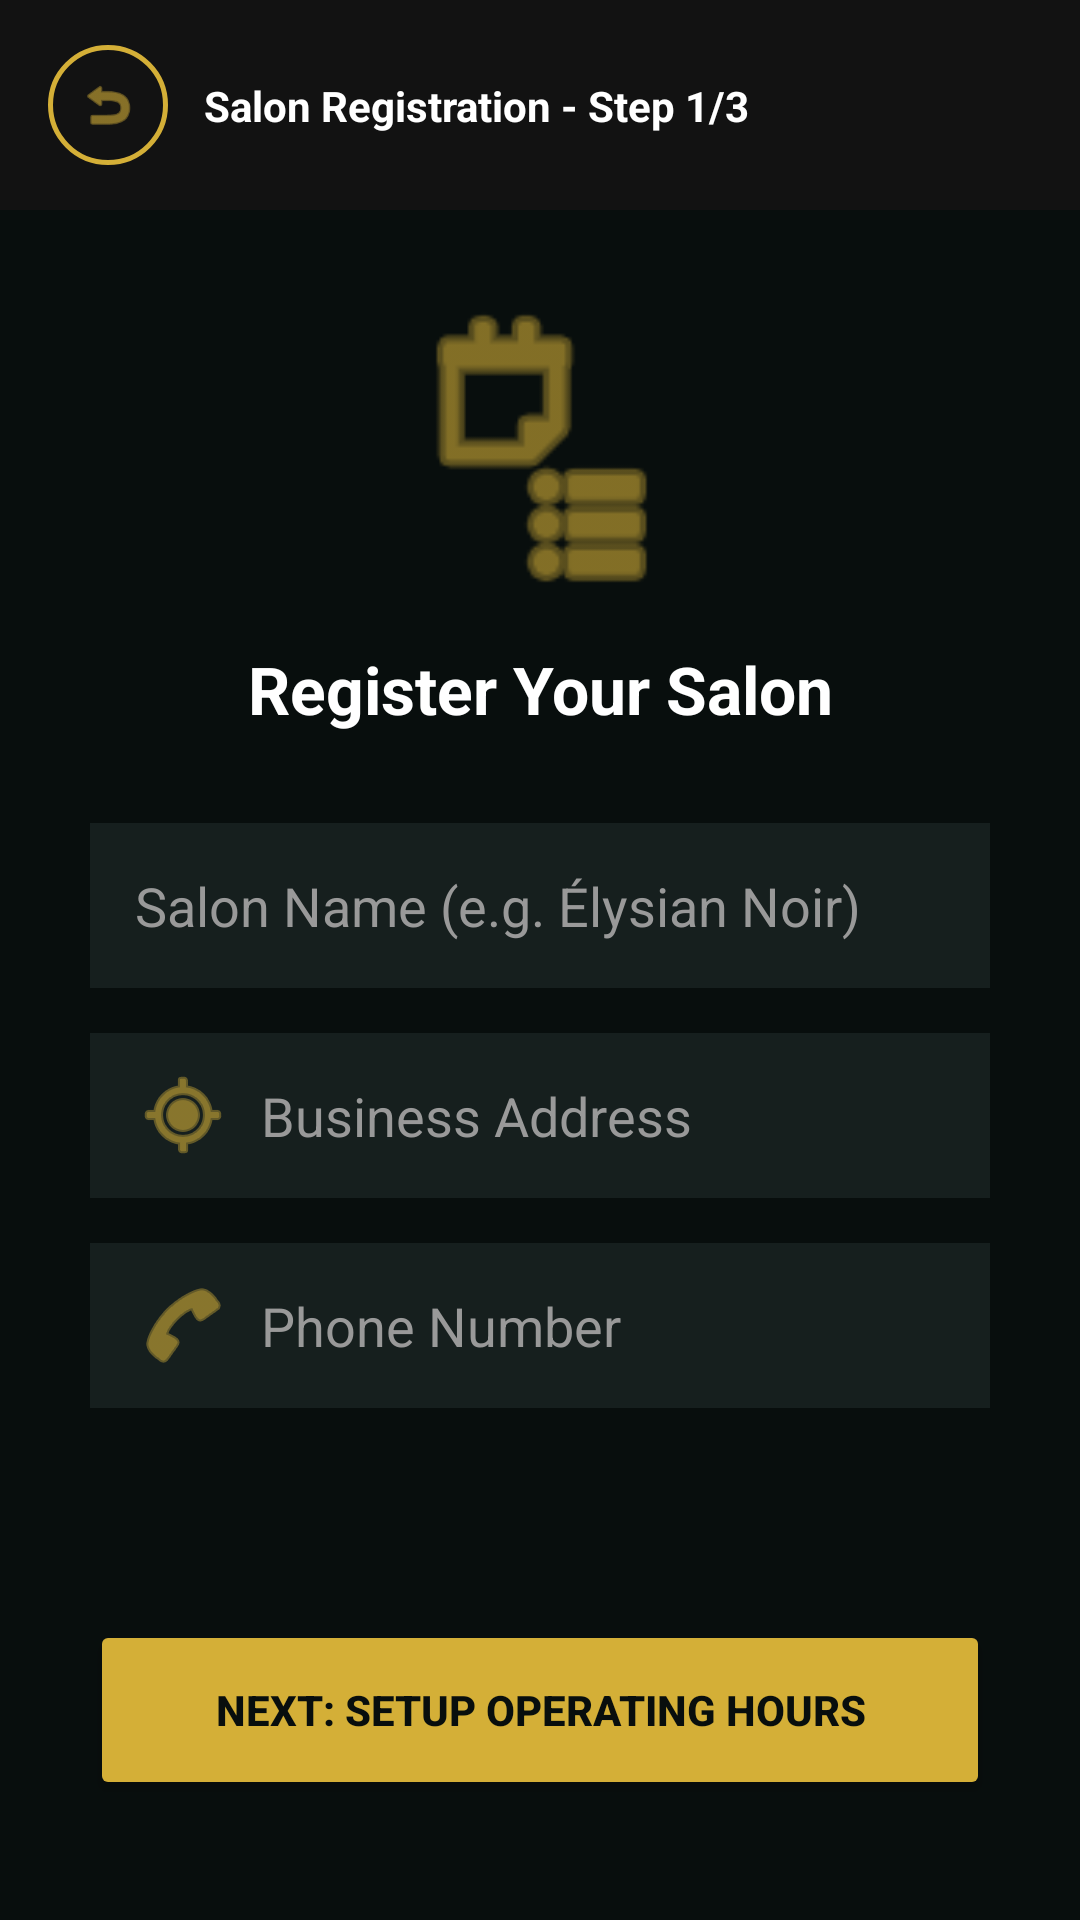

Named icons in this screenshot (1080x1920) and their bounding boxes, box=[x1, y1, x2, y2]:
agenda: box=[436, 315, 647, 582]
revert: box=[48, 45, 168, 165]
